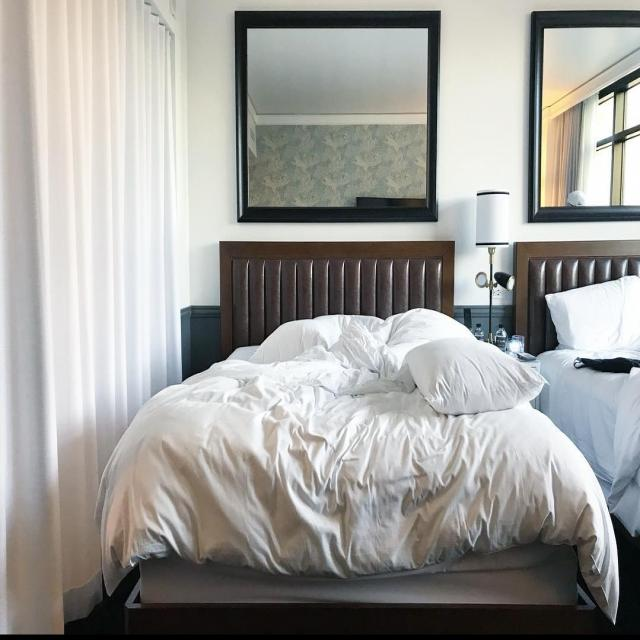bed: (117, 308, 554, 550)
